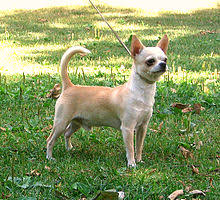chihuahua: (47, 26, 185, 179)
